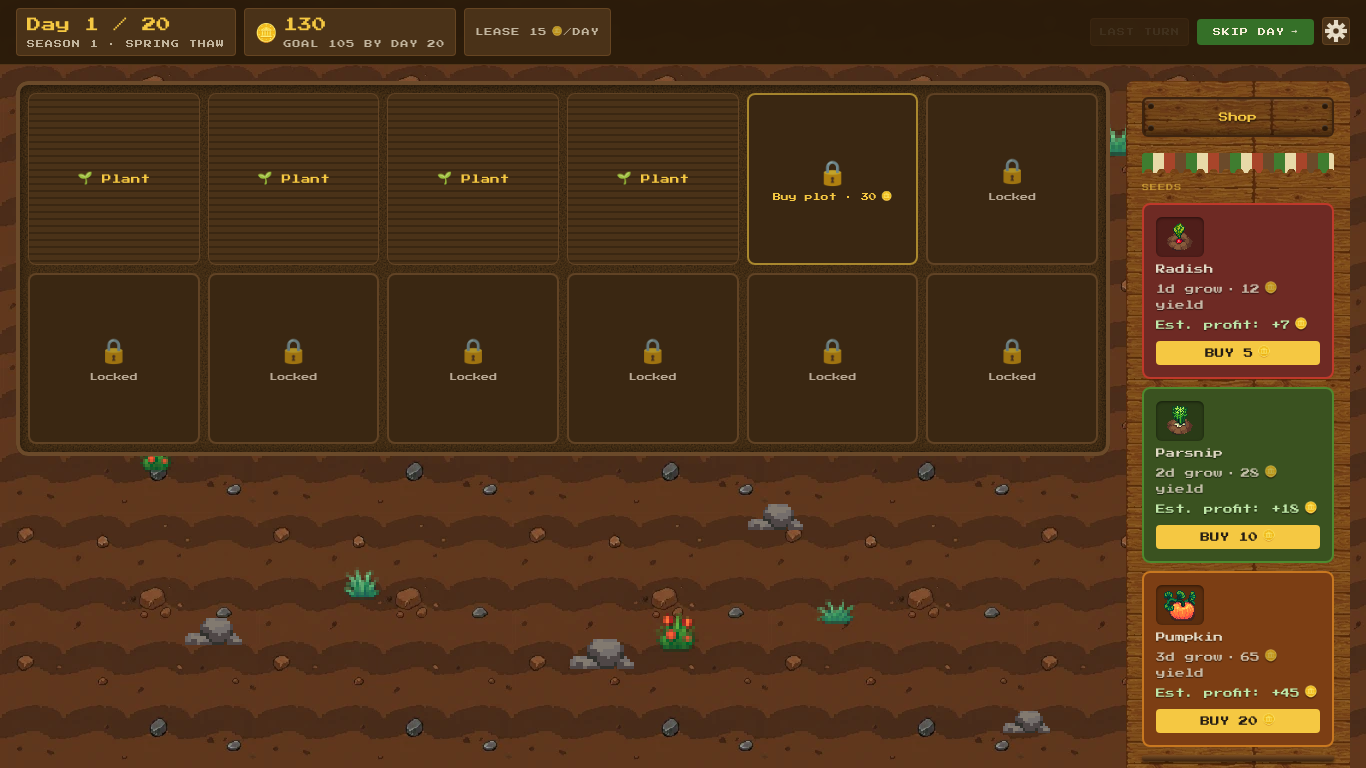
Test: App — 024 in-run replay tutorial › restarts the tutorial from the in-run game menu, where GameBoard stays mounted
Expected: the button "plant my farm" is not shown
Click the button named "game menu" at (1336, 30), box [1322, 16, 1350, 44]
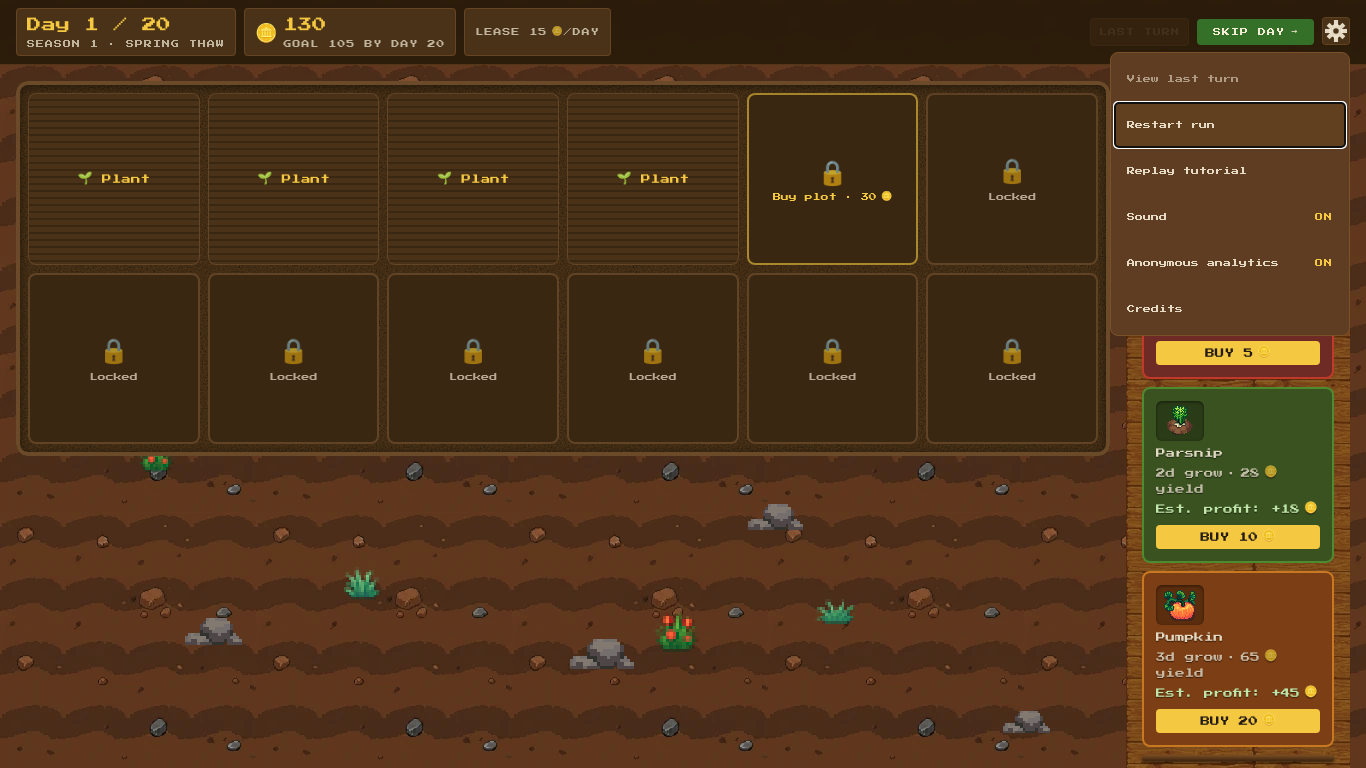
Click the menu item "Replay tutorial" at (1230, 170), box [1115, 148, 1345, 192]
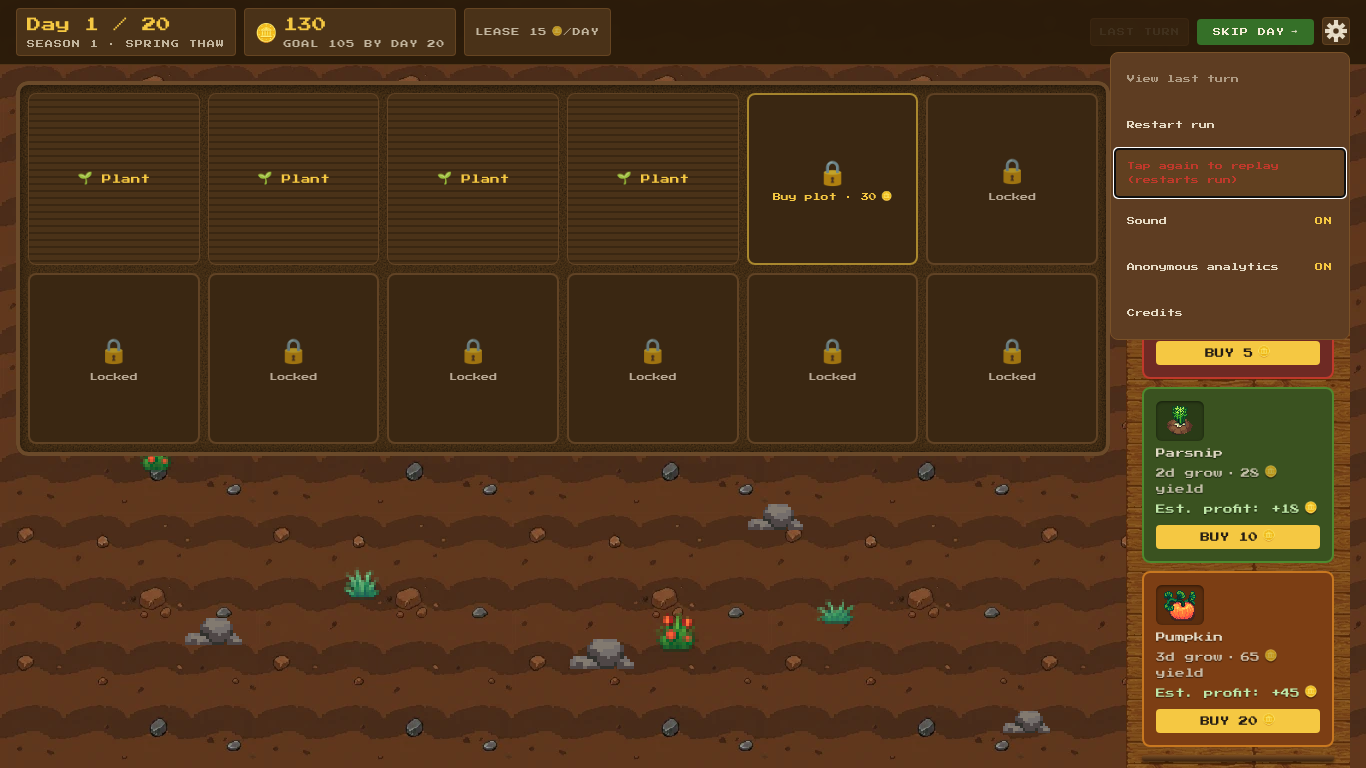
Click the menu item "Tap again to replay (restarts run)" at (1230, 172), box [1115, 148, 1345, 196]
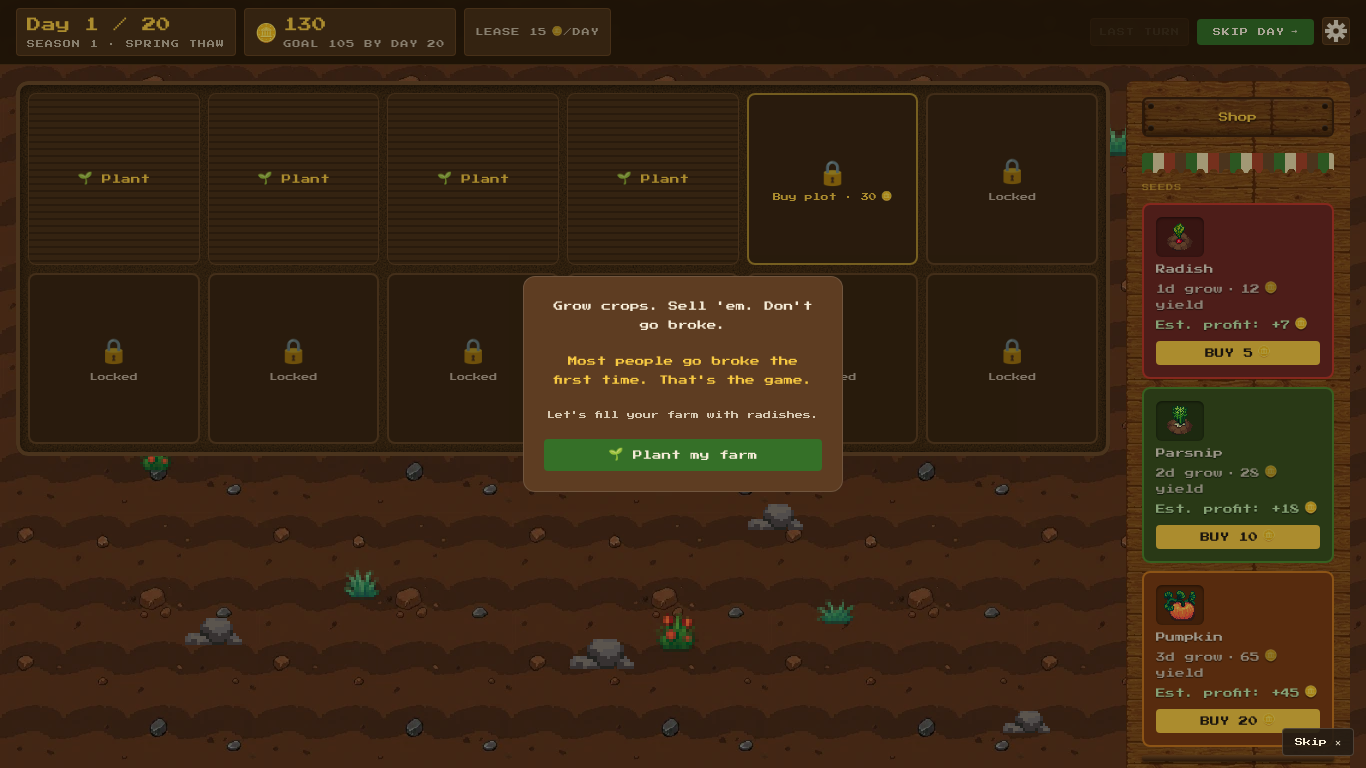
Now the button "🌱 Plant my farm" is shown, box [544, 439, 822, 471]
